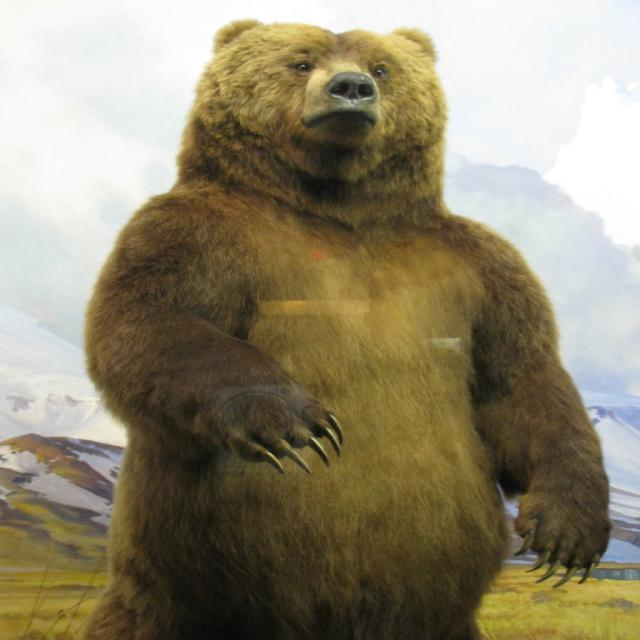Cheetahs: (80, 13, 614, 640)
